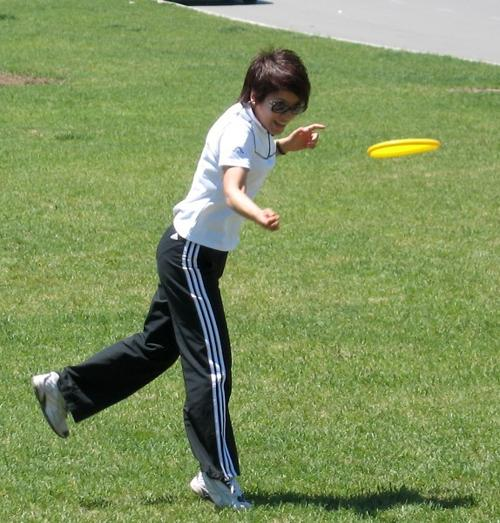person: (33, 49, 327, 510)
